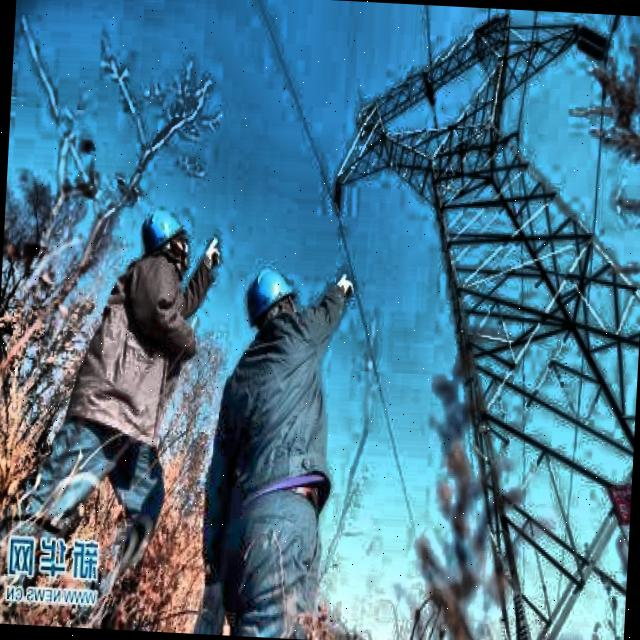helmet: (243, 265, 300, 337), (137, 212, 195, 282)
